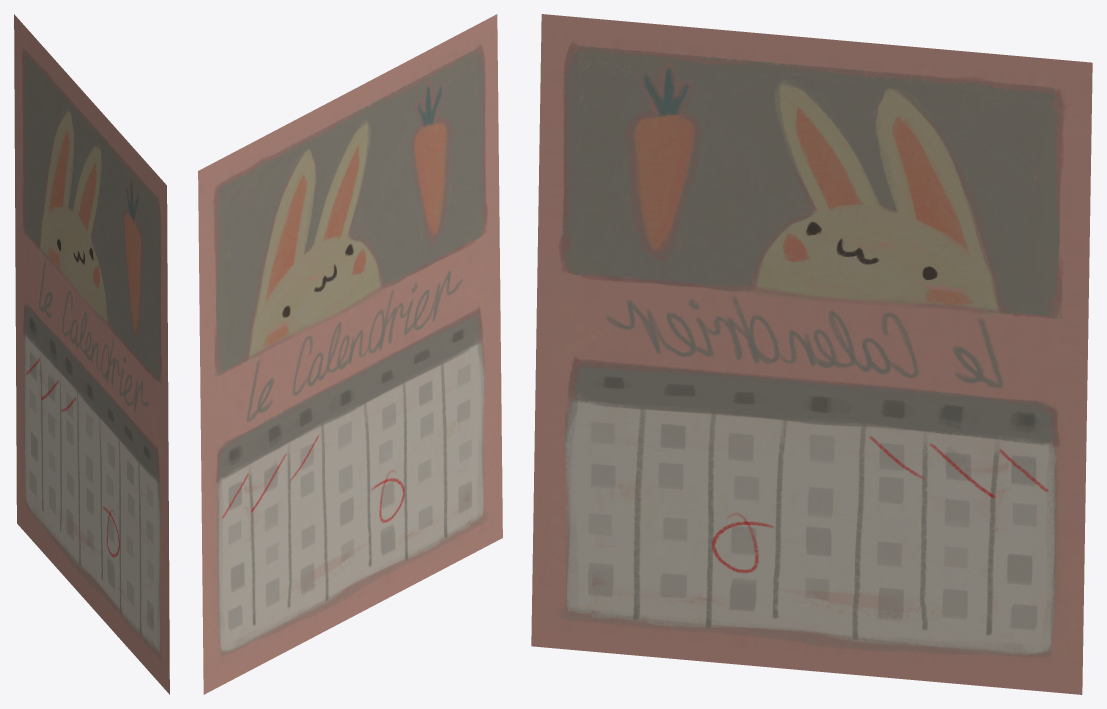
The model's file is calend.fbx.
The picture shows the model from 3 angles, left to right: view 1: azimuth 30°, elevation 25°; view 2: azimuth 150°, elevation 25°; view 3: azimuth 270°, elevation 25°; orthographic projection. The views are drawn at different scales.
Visible parts, largest first — view 1: Material #374; view 2: Material #374; view 3: Material #374.
Part boxes in pixels (x1,y1,x2,y2): Material #374: [14, 14, 169, 694]; Material #374: [198, 14, 502, 694]; Material #374: [531, 14, 1092, 694].
Bounding box in the file's own units: 54.18 × 387 × 307.
1 material, 1 textured.
